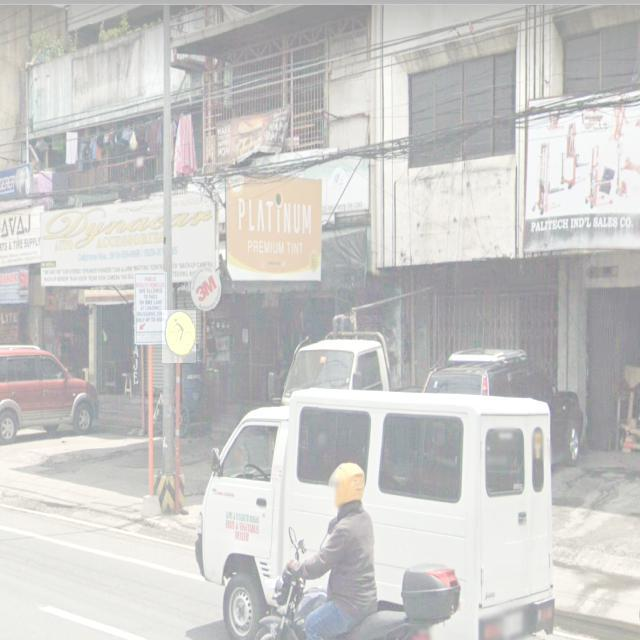bike lane: (163, 310, 197, 363)
